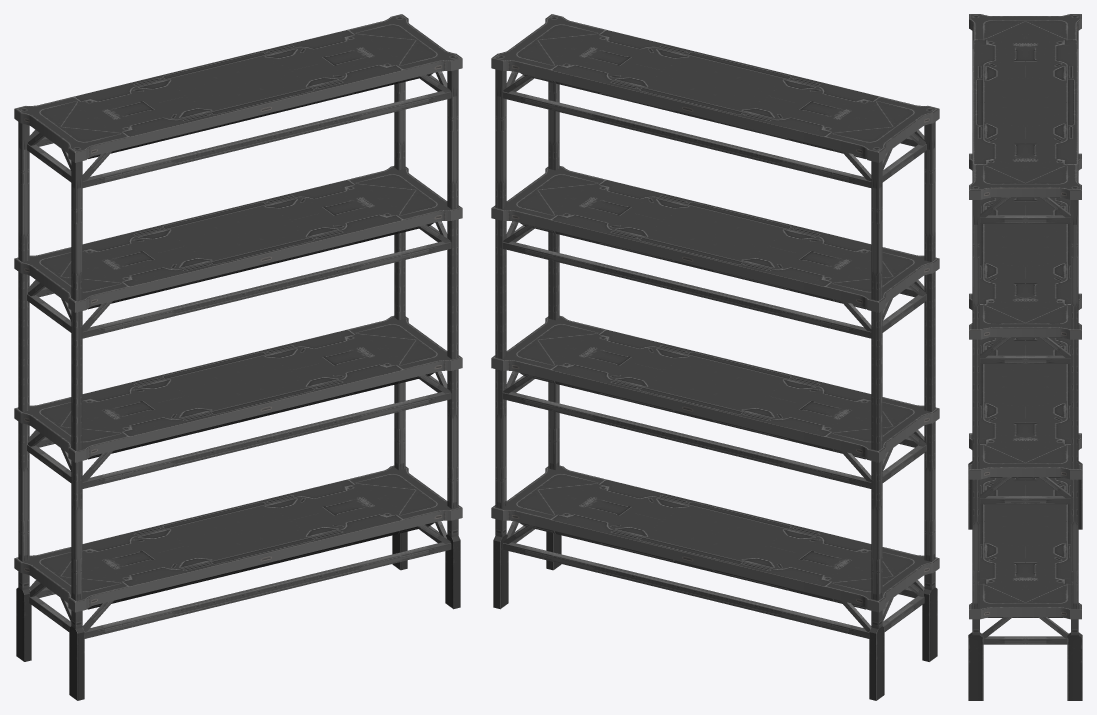
File: Prop_Shelves_WideTall.gltf
3 renders of one model, left to right at view 1: azimuth 30°, elevation 25°; view 2: azimuth 150°, elevation 25°; view 3: azimuth 270°, elevation 25°, orthographic. The views are drawn at different scales.
Parts seen in each view (by area): view 1: Prop_Shelves_WideTall; view 2: Prop_Shelves_WideTall; view 3: Prop_Shelves_WideTall.
Part boxes in pixels (bbox=[...]): Prop_Shelves_WideTall: bbox=[14, 14, 462, 700]; Prop_Shelves_WideTall: bbox=[491, 14, 939, 700]; Prop_Shelves_WideTall: bbox=[968, 14, 1082, 700].
Size of the model in its own units: 1.98 by 2.67 by 0.5407.
Materials: 1 (1 with a texture image).
